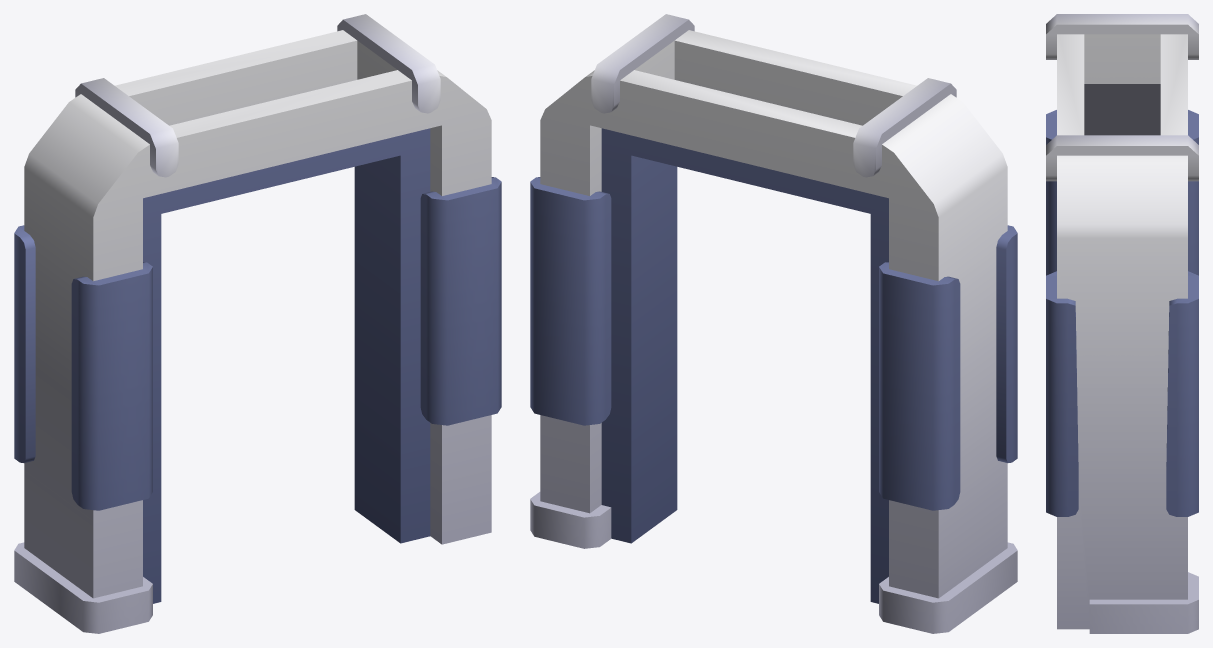
Rendered from gate-door_lev4.glb.
3 renders of one model, left to right at view 1: azimuth 30°, elevation 25°; view 2: azimuth 150°, elevation 25°; view 3: azimuth 270°, elevation 25°, orthographic. The views are drawn at different scales.
Parts seen in each view (by area): view 1: gate-door_lev4; view 2: gate-door_lev4; view 3: gate-door_lev4.
Part boxes in pixels (left/top/right/bottom): gate-door_lev4: left=14, top=14, right=501, bottom=633; gate-door_lev4: left=530, top=14, right=1017, bottom=633; gate-door_lev4: left=1046, top=14, right=1198, bottom=633.
Size of the model in its own units: 12.6 by 13.86 by 4.2.
1 material, 1 textured.
